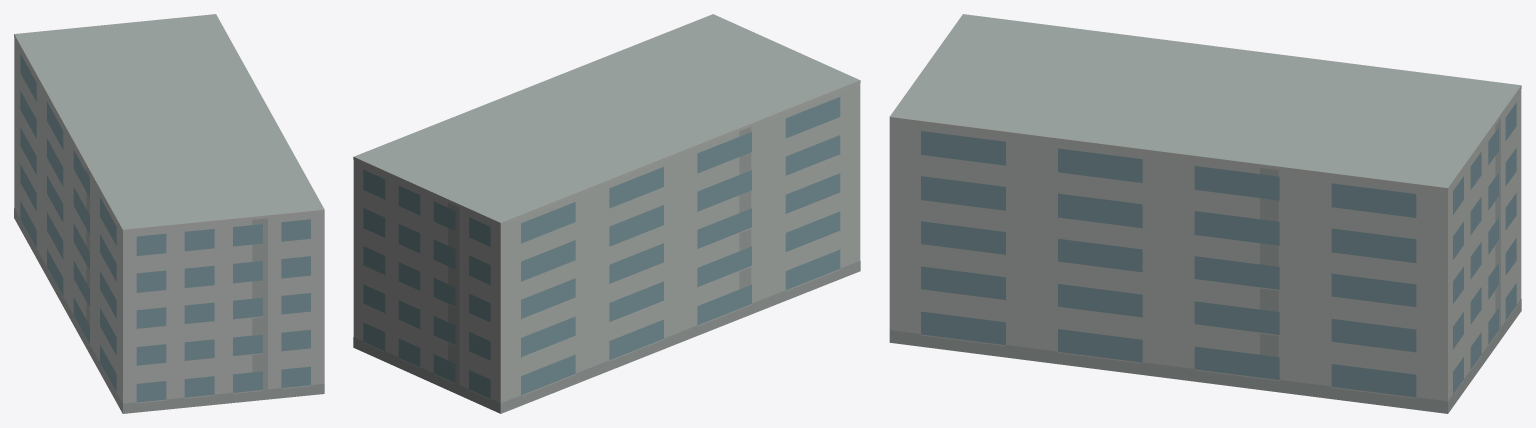
Rendered from residential-dd02ae13-5cea-46ed-960e-64a7fd87c1e9.glb.
3 views of the same model, side by side, from view 1: azimuth 30°, elevation 25°; view 2: azimuth 150°, elevation 25°; view 3: azimuth 270°, elevation 25° (orthographic). The views are drawn at different scales.
Parts seen in each view (by area): view 1: residential-dd02ae13-5cea-46ed-960e-64a7fd87c1e9.tmp; view 2: residential-dd02ae13-5cea-46ed-960e-64a7fd87c1e9.tmp; view 3: residential-dd02ae13-5cea-46ed-960e-64a7fd87c1e9.tmp.
Part boxes in pixels (x1=…): residential-dd02ae13-5cea-46ed-960e-64a7fd87c1e9.tmp: x1=14, y1=14, x2=324, y2=413; residential-dd02ae13-5cea-46ed-960e-64a7fd87c1e9.tmp: x1=353, y1=14, x2=860, y2=413; residential-dd02ae13-5cea-46ed-960e-64a7fd87c1e9.tmp: x1=889, y1=14, x2=1521, y2=413.
Size of the model in its own units: 25.23 by 15.25 by 38.7.
